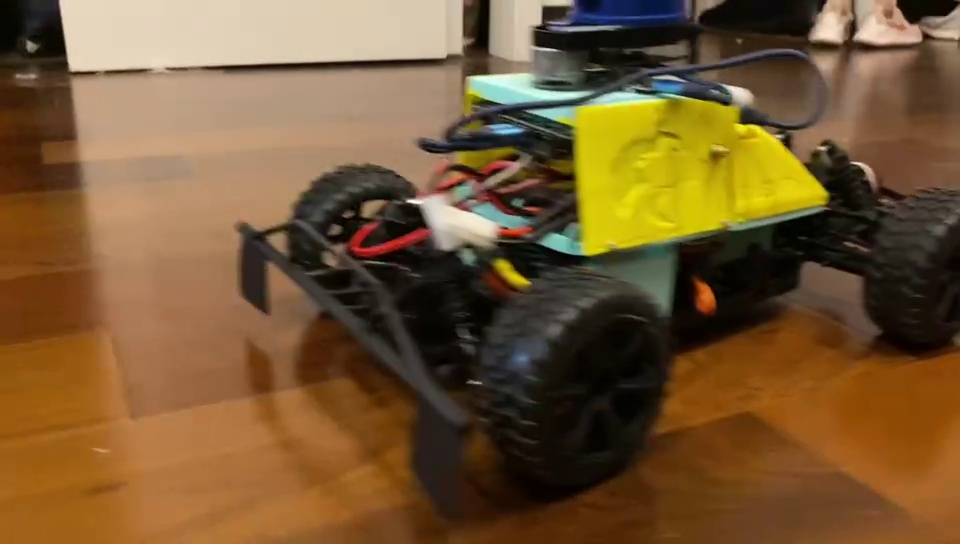mushr_car: (230, 1, 958, 502)
